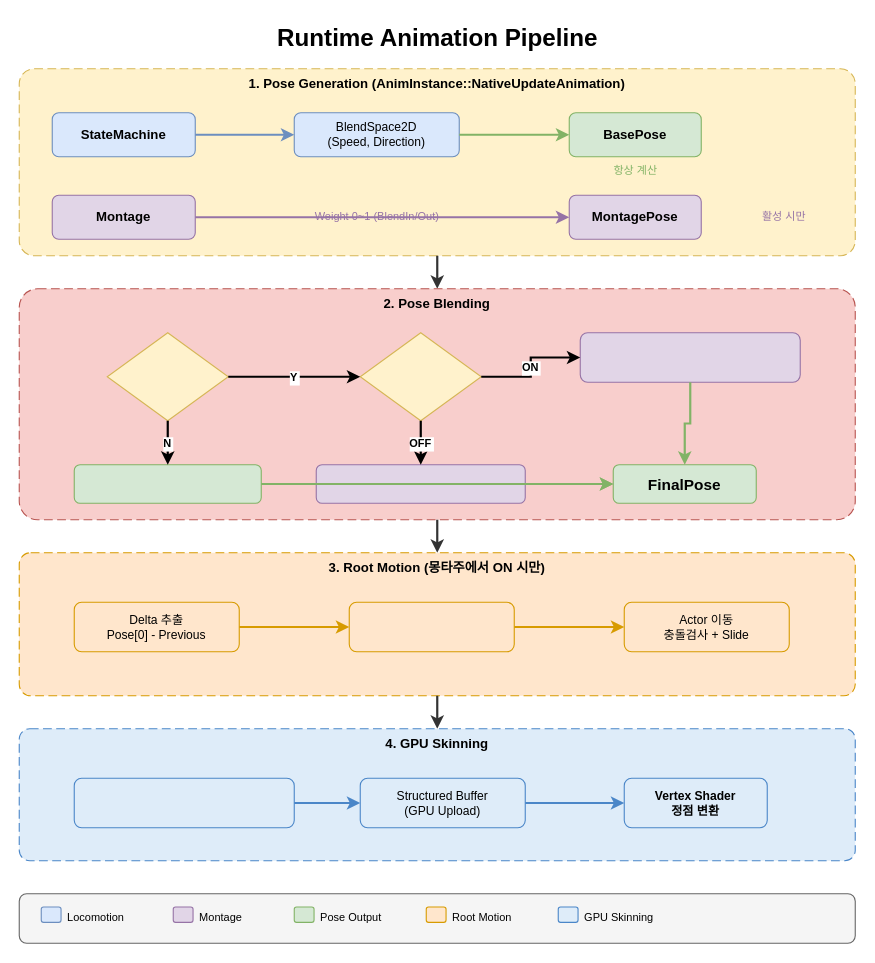
The diagram is 875 pixels wide and 963 high, and some of its shapes have lost their labels. The shapes that lost their labels are listed below. From the top down, each one's centre as x and y in pixels, then its label:
point 167,376: Montage 활성?
point 420,376: UpperBody Split?
point 689,357: 상체: Lerp(Base, Montage, W) 하체: BasePose
point 167,483: FinalPose = BasePose
point 420,483: 전신: Lerp(Base, Montage, W)
point 431,626: Pose[0] = Zero (본 제자리 고정)
point 183,802: SkinningMatrix[i] = GlobalPose[i] × InvBindPose[i]
